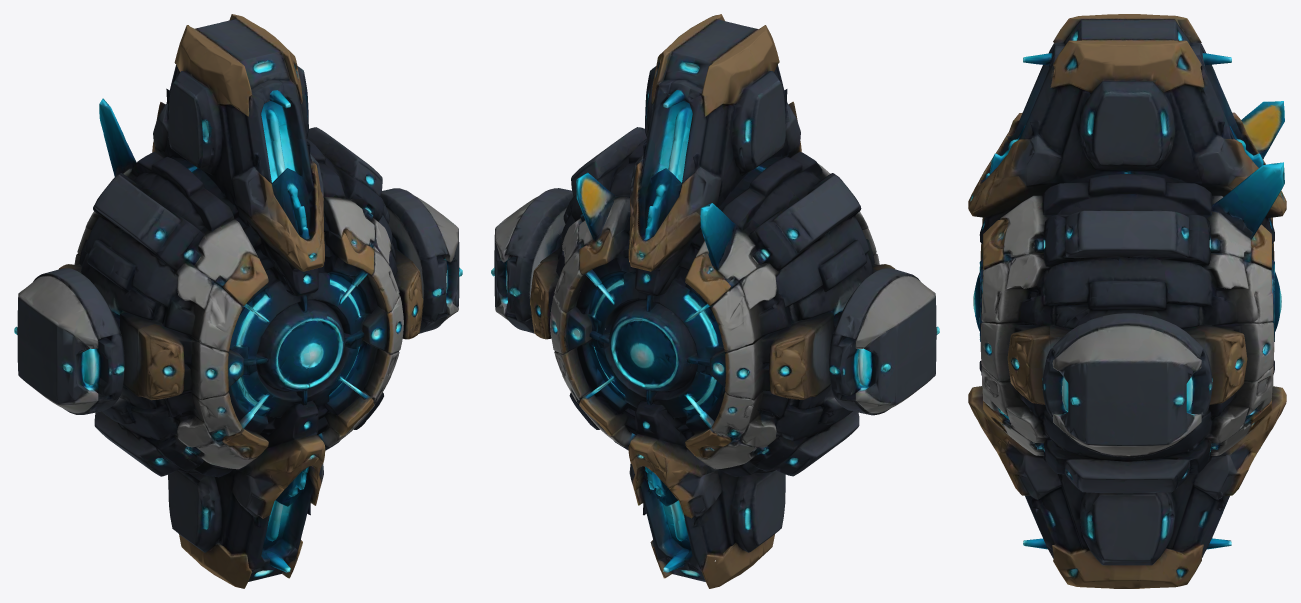
File: pet-drone-lv6.glb
3 views of the same model, side by side, from view 1: azimuth 30°, elevation 25°; view 2: azimuth 150°, elevation 25°; view 3: azimuth 270°, elevation 25° (orthographic). The views are drawn at different scales.
Visible parts, largest first — view 1: tripo_node_8ac78c91-8e2c-4be9-9981-97a0741c5fdc; view 2: tripo_node_8ac78c91-8e2c-4be9-9981-97a0741c5fdc; view 3: tripo_node_8ac78c91-8e2c-4be9-9981-97a0741c5fdc.
Part boxes in pixels (x1,y1,x2,y2): tripo_node_8ac78c91-8e2c-4be9-9981-97a0741c5fdc: [14, 14, 462, 588]; tripo_node_8ac78c91-8e2c-4be9-9981-97a0741c5fdc: [491, 14, 939, 588]; tripo_node_8ac78c91-8e2c-4be9-9981-97a0741c5fdc: [968, 14, 1286, 588].
Size of the model in its own units: 0.7916 by 0.9785 by 0.5193.
1 material, 1 textured.
